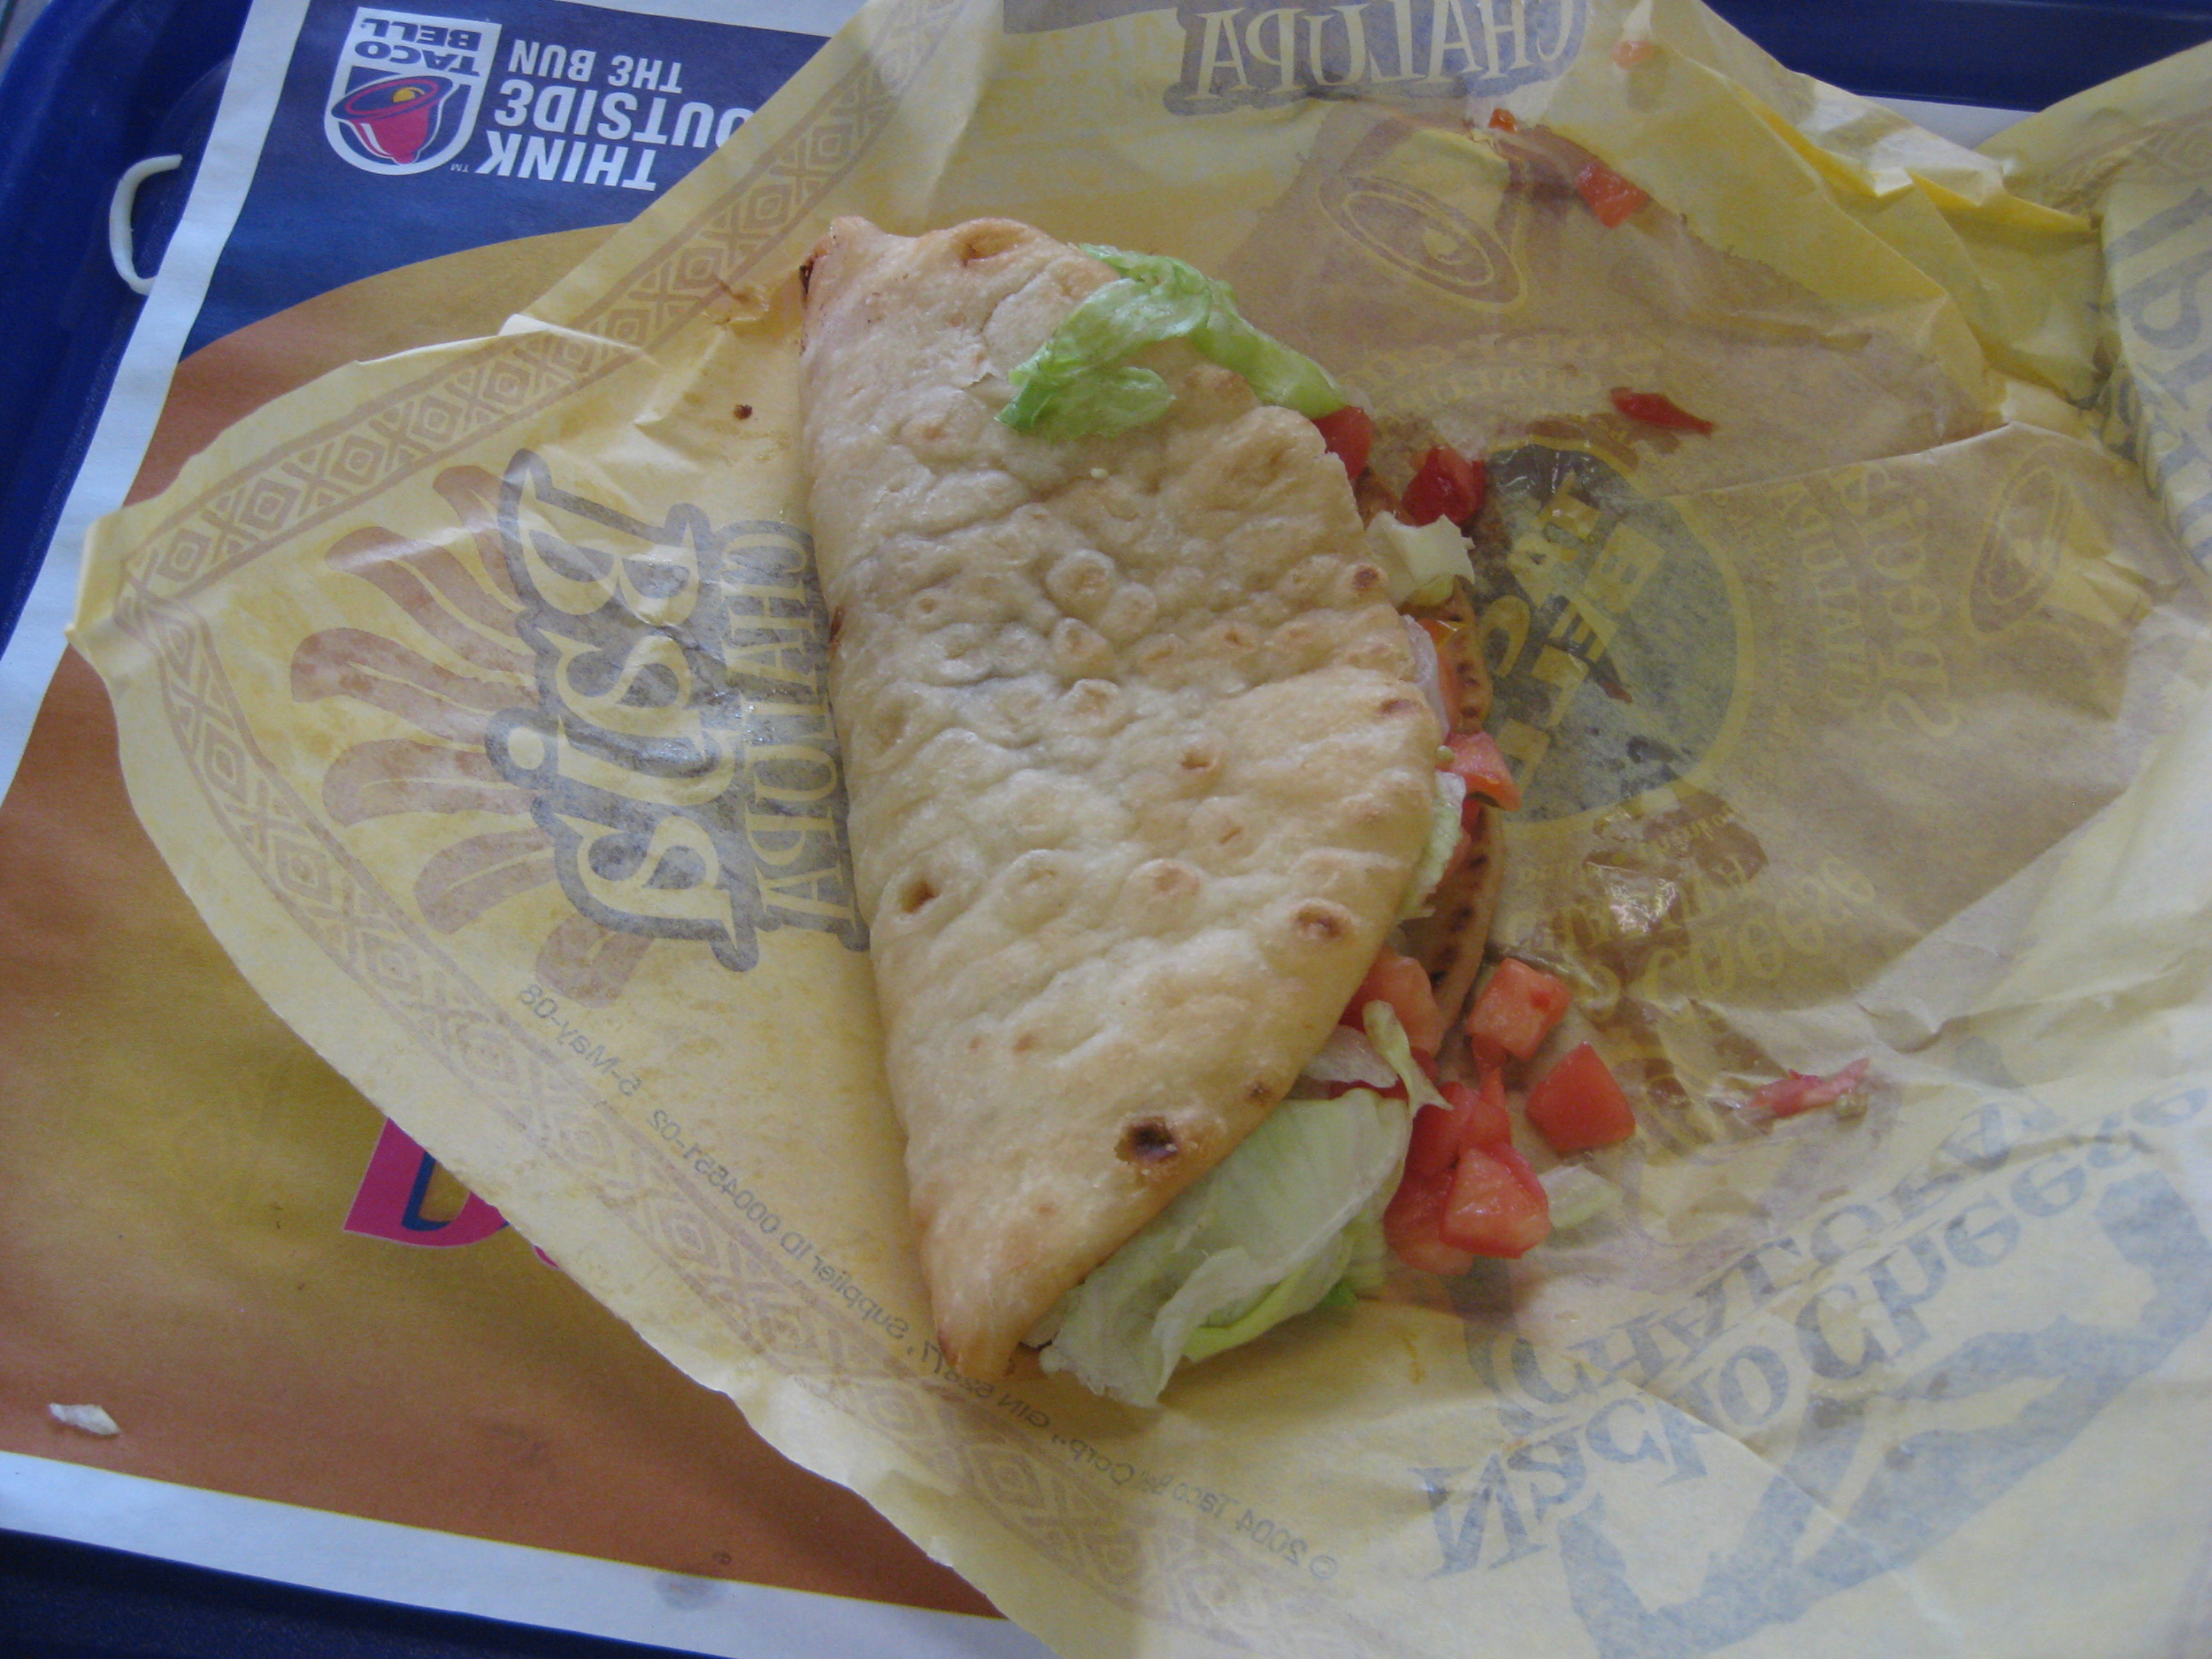taco: (778, 123, 1693, 1450)
